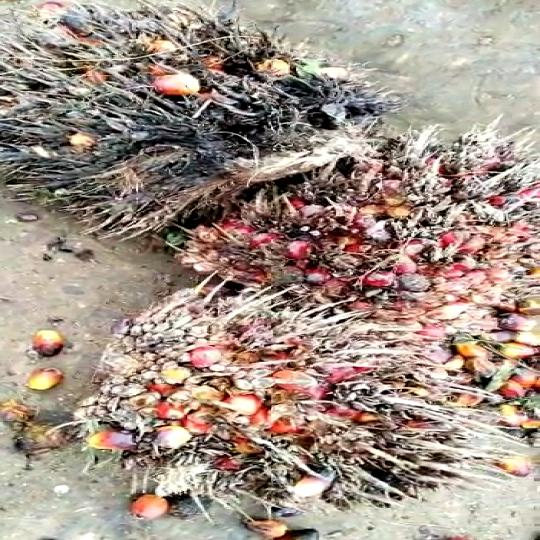terlalu masak: (79, 282, 513, 520), (0, 7, 344, 228), (176, 138, 540, 316)
